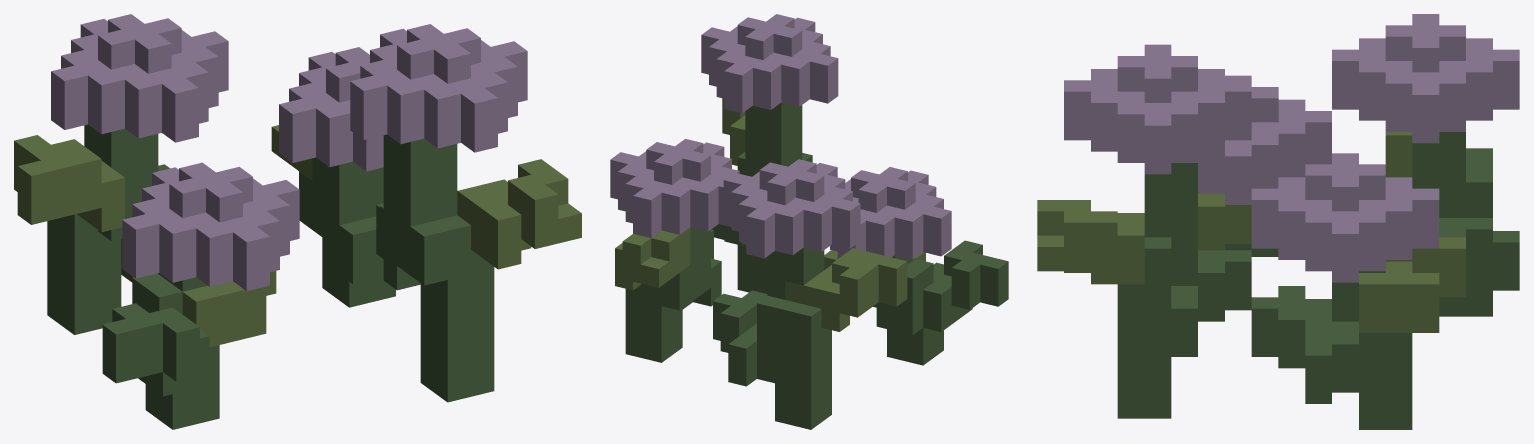
Rendered from flowers_2_summer.glb.
3 views of the same model, side by side, from view 1: azimuth 30°, elevation 25°; view 2: azimuth 150°, elevation 25°; view 3: azimuth 270°, elevation 25° (orthographic). The views are drawn at different scales.
Parts seen in each view (by area): view 1: VoxelVisual; view 2: VoxelVisual; view 3: VoxelVisual.
Part boxes in pixels (x1,y1,x2,y2): VoxelVisual: [14, 14, 581, 429]; VoxelVisual: [610, 14, 1008, 429]; VoxelVisual: [1037, 14, 1519, 429].
Size of what is drawn, in the model's own units: 1.12 by 0.875 by 1.12.
